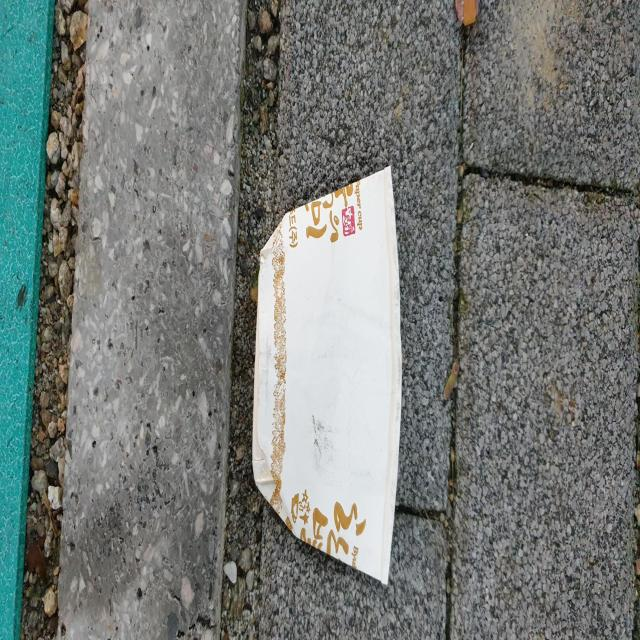paperpack: (252, 165, 402, 584)
